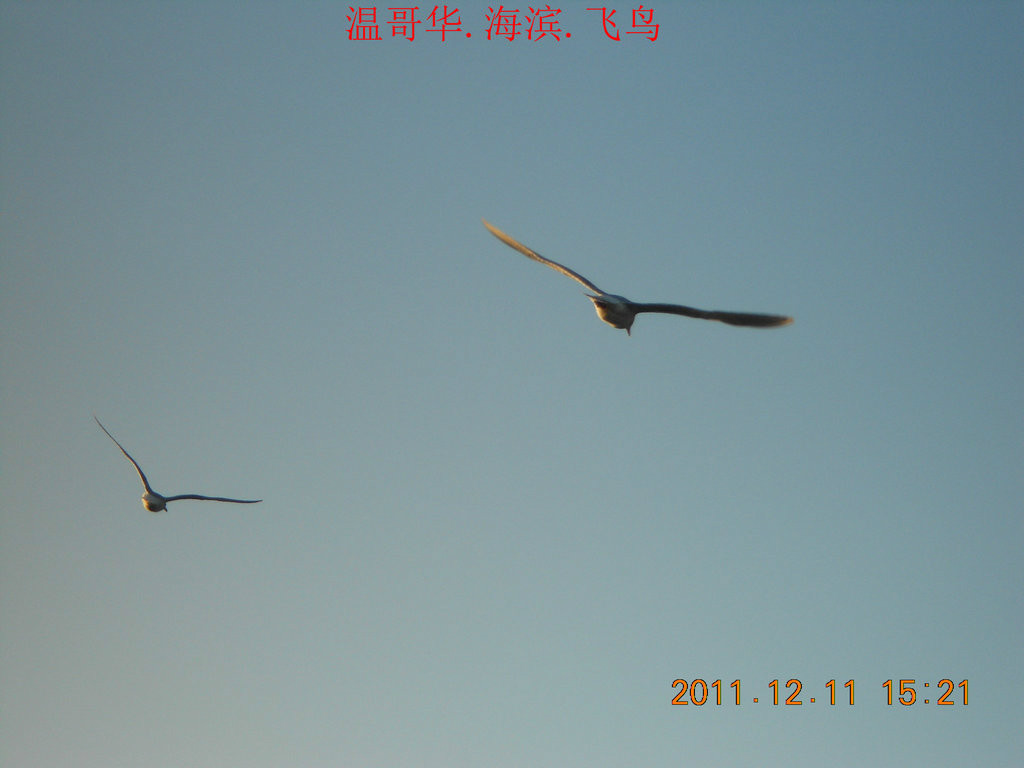bird: (476, 214, 799, 339), (93, 413, 263, 518)
